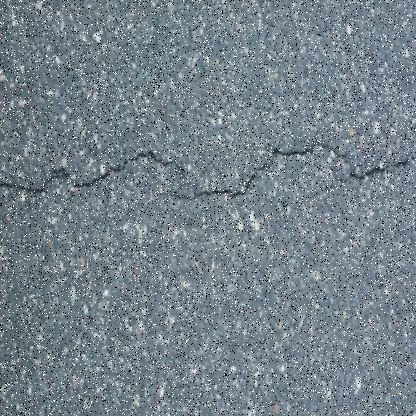Cracks: (0, 130, 415, 216)
